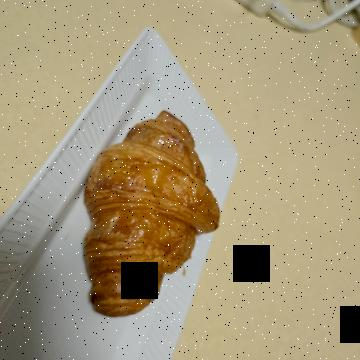croissant: (98, 139, 331, 299)
